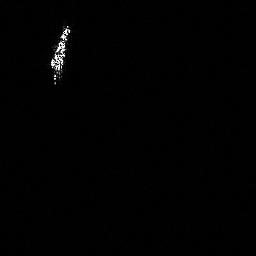ship: (46, 22, 74, 88)
